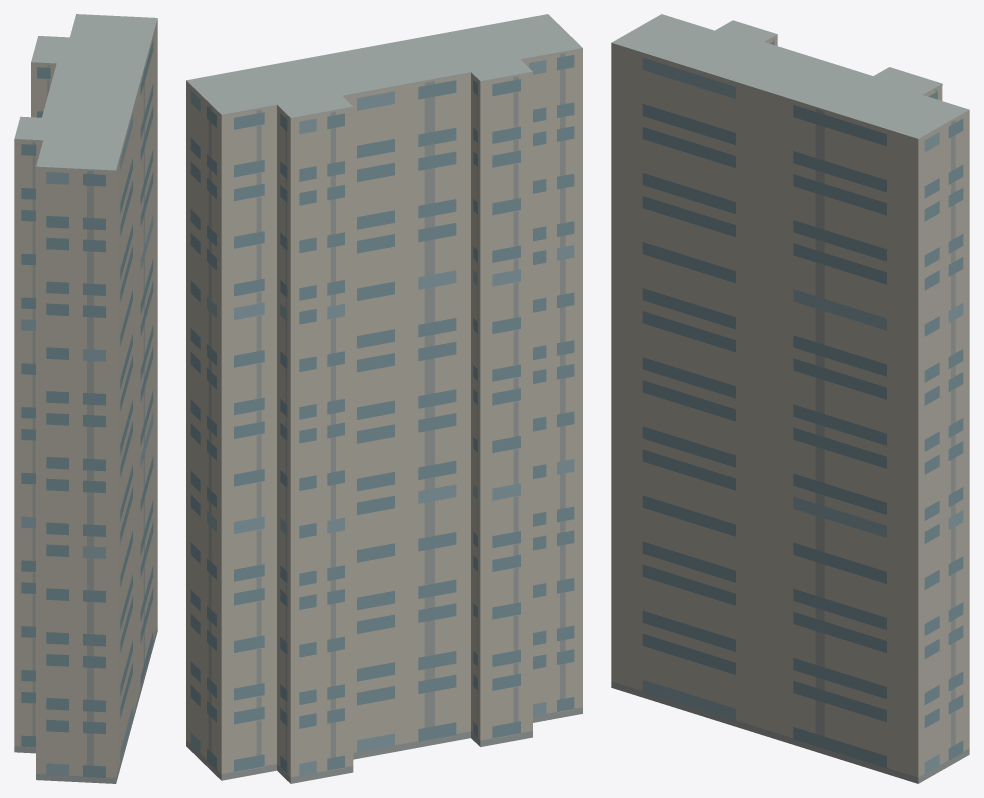
File: residential-df99eb7c-231b-4c5e-9246-fea4a6272fe4.glb
3 renders of one model, left to right at view 1: azimuth 30°, elevation 25°; view 2: azimuth 150°, elevation 25°; view 3: azimuth 270°, elevation 25°, orthographic. The views are drawn at different scales.
Visible parts, largest first — view 1: residential-df99eb7c-231b-4c5e-9246-fea4a6272fe4.tmp; view 2: residential-df99eb7c-231b-4c5e-9246-fea4a6272fe4.tmp; view 3: residential-df99eb7c-231b-4c5e-9246-fea4a6272fe4.tmp.
Part boxes in pixels (left/top/right/bottom): residential-df99eb7c-231b-4c5e-9246-fea4a6272fe4.tmp: left=14, top=14, right=157, bottom=783; residential-df99eb7c-231b-4c5e-9246-fea4a6272fe4.tmp: left=186, top=14, right=582, bottom=783; residential-df99eb7c-231b-4c5e-9246-fea4a6272fe4.tmp: left=611, top=14, right=969, bottom=783.
Size of the model in its own units: 31.99 by 77 by 38.77.
